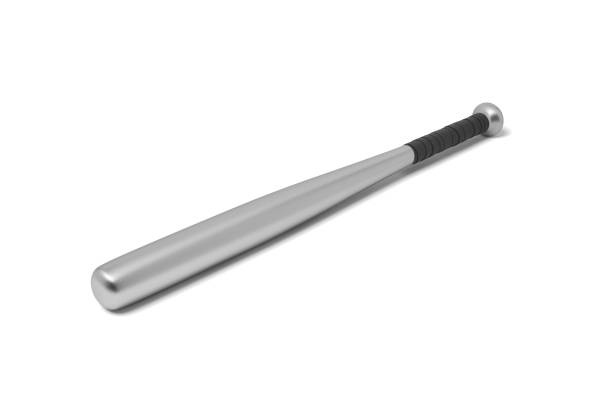bita: (91, 104, 503, 310)
